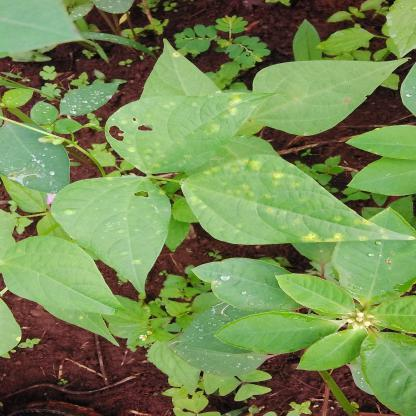Beans_Rust: (178, 154, 410, 251), (110, 90, 275, 172), (53, 178, 172, 289), (138, 40, 226, 100)
